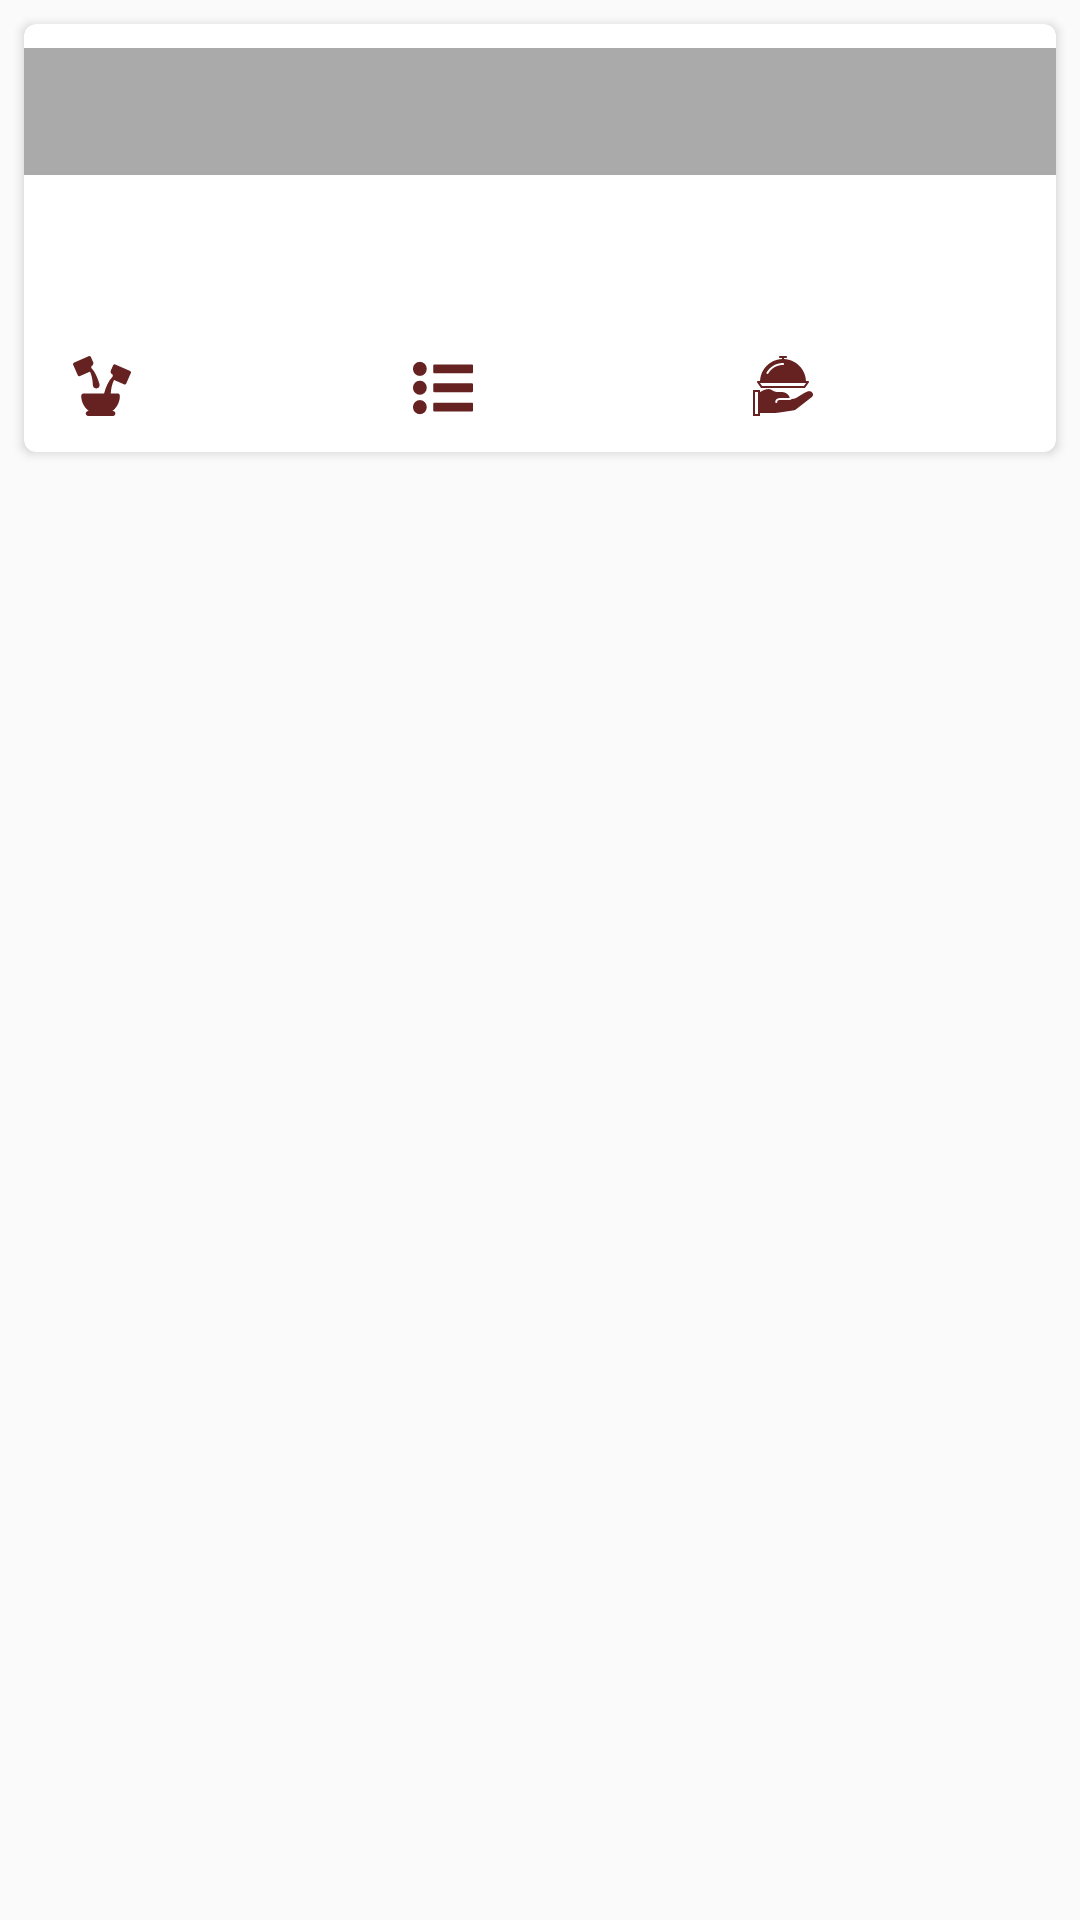

Icon click points for this 1080 x 1920 phone screenshot, format [x,y]:
ingredients: [102,386]
list with bullets: [443,388]
meal: [783,386]
